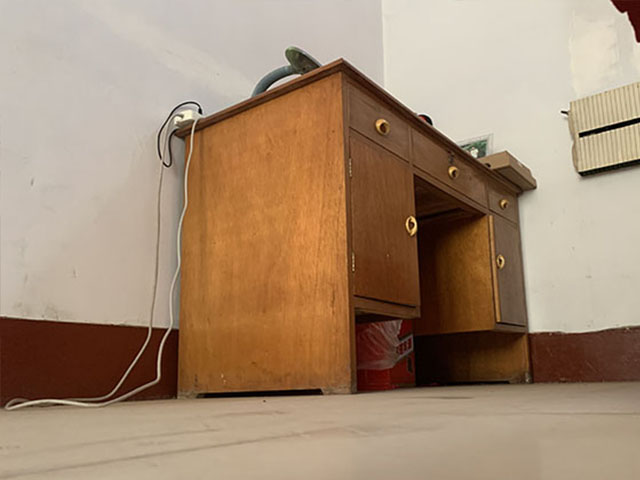cabinet: (177, 58, 539, 405)
wire: (128, 100, 204, 366), (3, 368, 169, 413)
